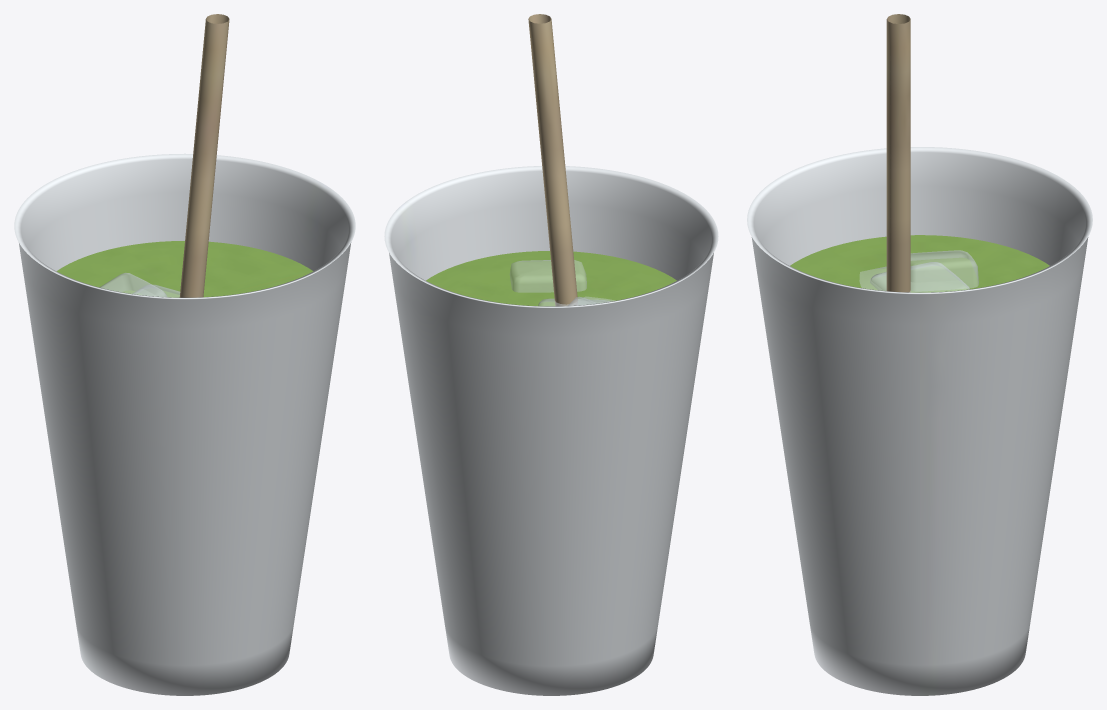
The model's file is iced-matcha.glb.
3 renders of one model, left to right at view 1: azimuth 30°, elevation 25°; view 2: azimuth 150°, elevation 25°; view 3: azimuth 270°, elevation 25°, orthographic. The views are drawn at different scales.
Visible parts, largest first — view 1: clear, gloss, satin, ice; view 2: clear, gloss, satin, ice; view 3: clear, gloss, satin, ice.
Part boxes in pixels (x1,y1,x2,y2): clear: (14, 153, 355, 695); gloss: (56, 241, 313, 297); satin: (179, 14, 229, 297); ice: (99, 273, 180, 297); clear: (384, 166, 718, 695); gloss: (426, 251, 676, 306); satin: (528, 14, 577, 306); ice: (510, 260, 614, 305); clear: (747, 147, 1092, 695); gloss: (790, 235, 1049, 292); satin: (886, 14, 910, 292); ice: (859, 250, 978, 292).
Bounding box in the file's own units: 0.098 × 0.201 × 0.098.
4 materials, 4 textured.
